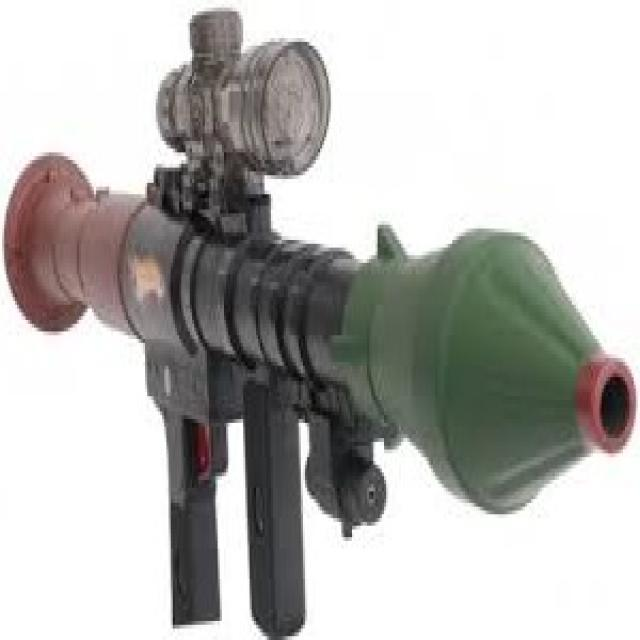bazooka: (5, 1, 640, 640)
